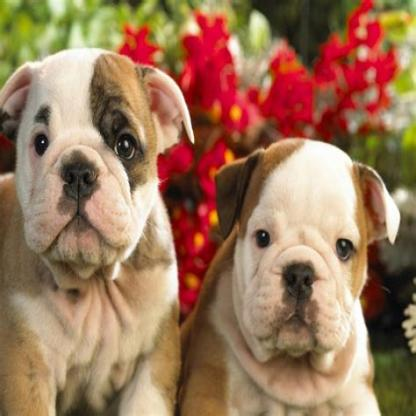dog: (0, 49, 180, 415), (208, 134, 388, 416)
